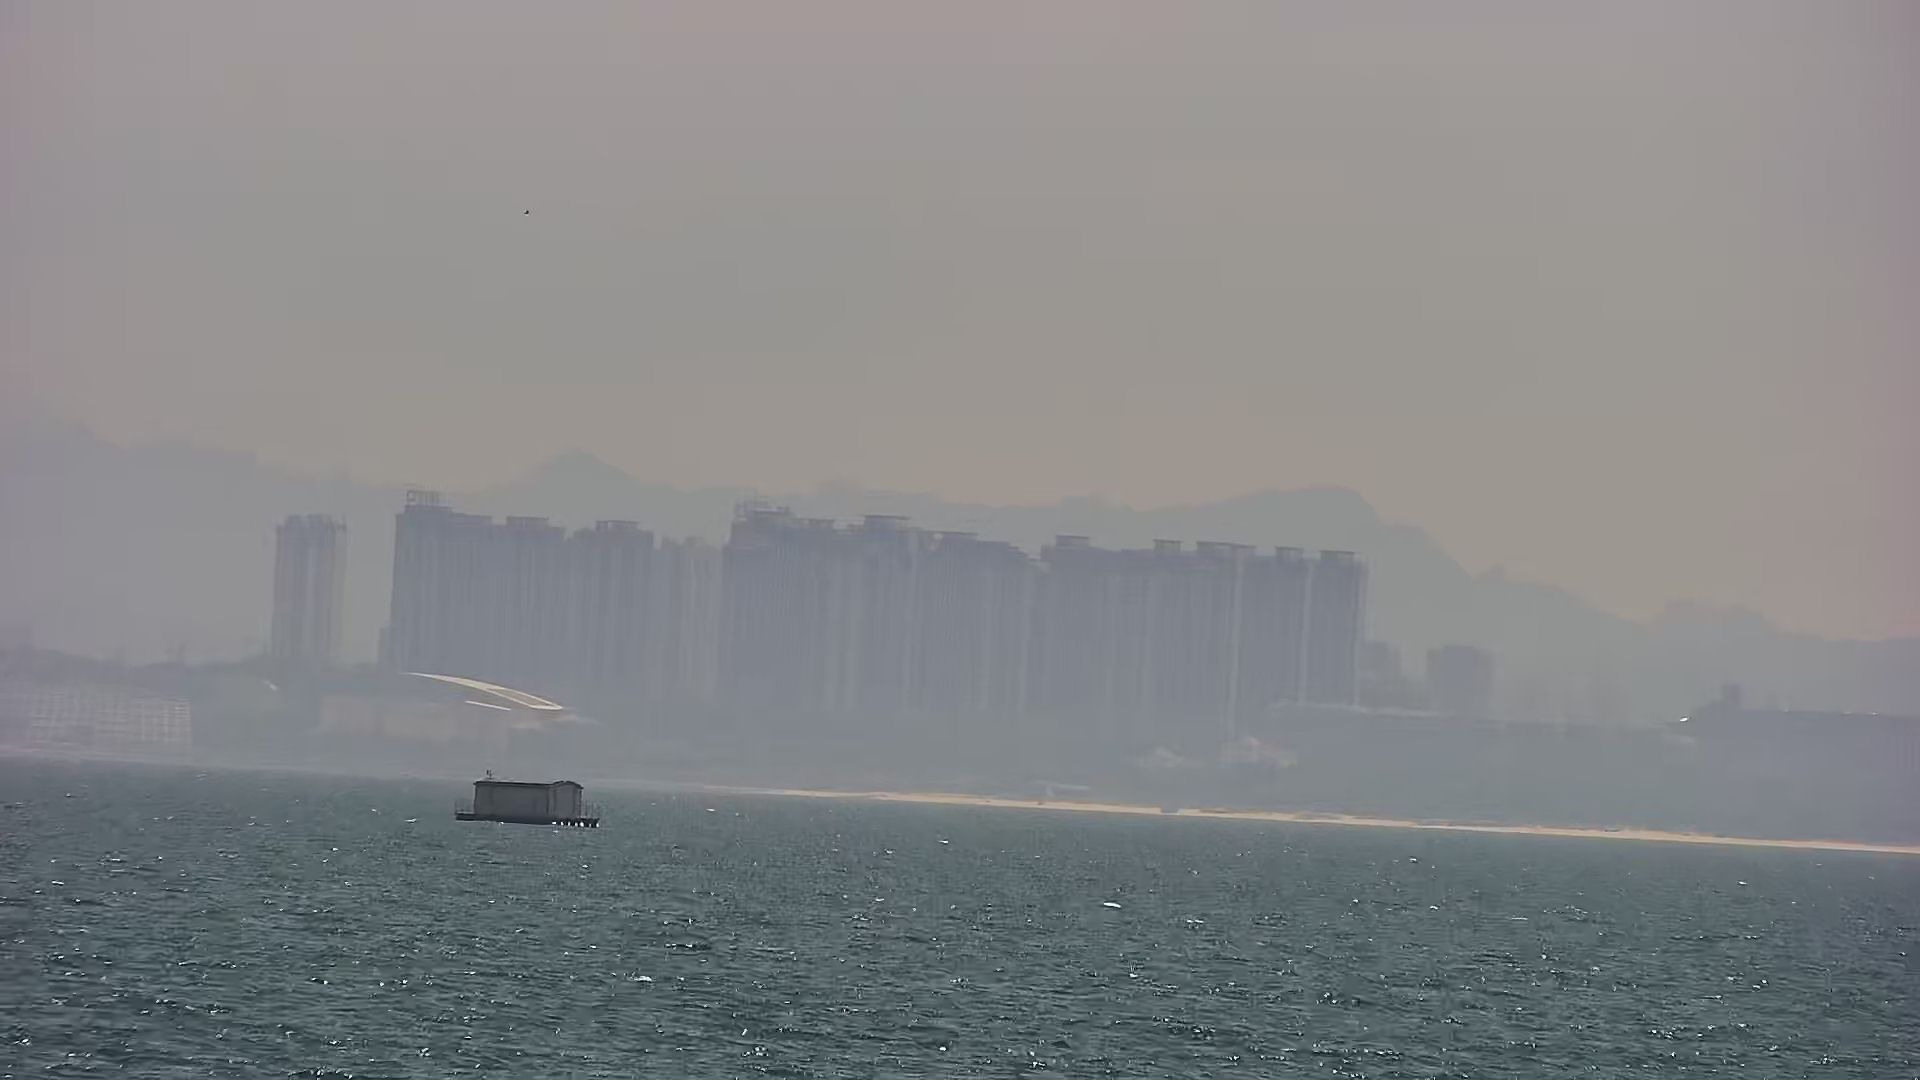platform: (438, 764, 612, 832)
